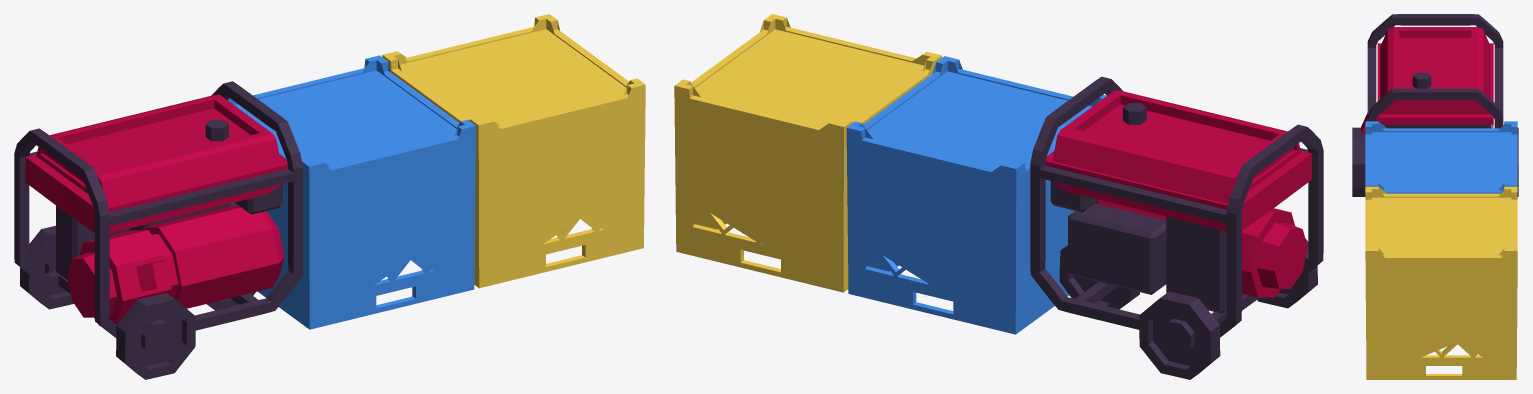
Rendered from WiringStationWip.fbx.
3 views of the same model, side by side, from view 1: azimuth 30°, elevation 25°; view 2: azimuth 150°, elevation 25°; view 3: azimuth 270°, elevation 25° (orthographic). The views are drawn at different scales.
Parts seen in each view (by area): view 1: Cube.006, Cube.014, Cube.016, Cylinder.008, Cube.015, Cylinder.007, Cylinder.006, Cube.017, Cube.019; view 2: Cube.014, Cube.006, Cube.016, Cube.015, Cube.018, Cylinder.006, Cylinder.008, Cube.017, Cylinder.009, Cylinder.007, Cube.019; view 3: Cube.006, Cube.014, Cube.016, Cube.015, Cylinder.007, Cube.019, Cylinder.010.
Part boxes in pixels (x1,y1,x2,y2): Cube.006: (382,14,645,288); Cube.014: (227,55,476,329); Cube.016: (25,94,287,233); Cylinder.008: (67,204,284,326); Cube.015: (14,81,302,337); Cylinder.007: (116,293,195,379); Cylinder.006: (20,225,73,309); Cube.017: (56,205,130,280); Cube.019: (235,184,282,214); Cube.014: (846,56,1106,334); Cube.006: (674,14,941,292); Cube.016: (1045,90,1311,231); Cube.015: (1030,76,1323,337); Cube.018: (1068,203,1166,294); Cylinder.006: (1139,291,1220,379); Cylinder.008: (1095,200,1307,297); Cube.017: (1166,216,1226,313); Cylinder.009: (1059,245,1139,309); Cylinder.007: (1257,238,1317,308); Cube.019: (1050,181,1099,212); Cube.006: (1365,186,1517,379); Cube.014: (1365,121,1517,193); Cube.016: (1377,27,1493,128); Cube.015: (1367,14,1503,128); Cylinder.007: (1352,127,1365,196); Cube.019: (1383,124,1491,128); Cylinder.010: (1412,72,1431,88).
Size of the model in its own units: 255 by 89.67 by 85.36.
